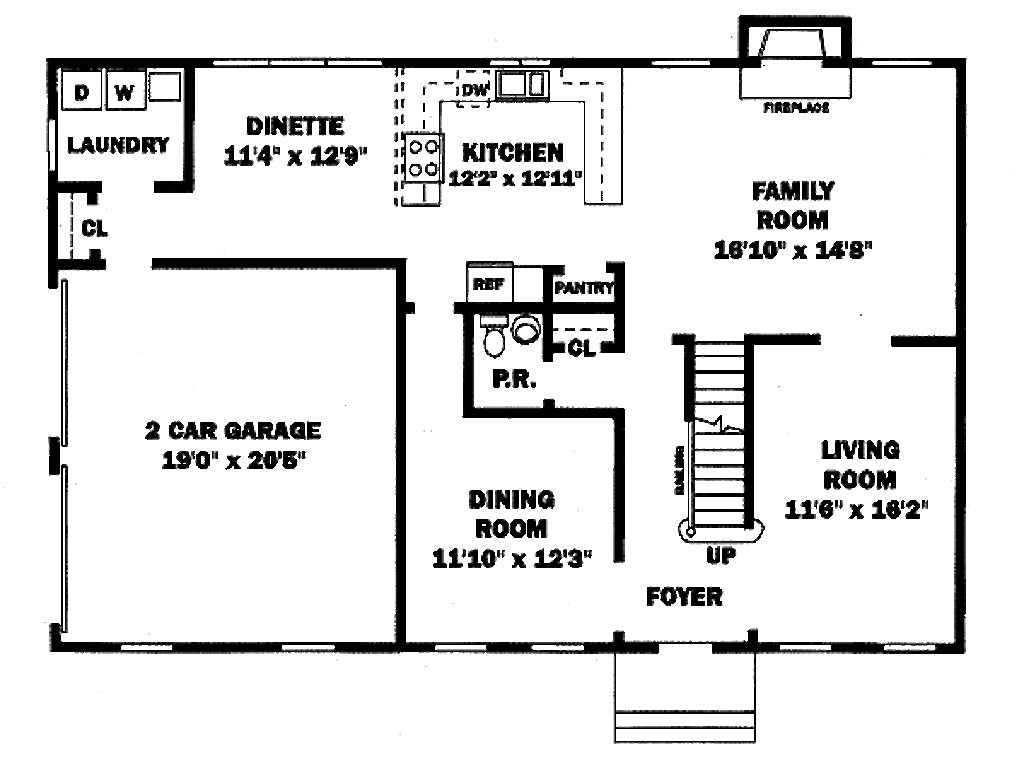large_sink: (475, 315, 514, 366)
small_sink: (509, 309, 546, 343)
stairs: (675, 334, 767, 543)
twin_sink: (491, 70, 556, 103)
window: (777, 641, 843, 662), (877, 637, 941, 654), (435, 640, 492, 658), (528, 637, 584, 655), (111, 641, 173, 657), (275, 642, 339, 653)
